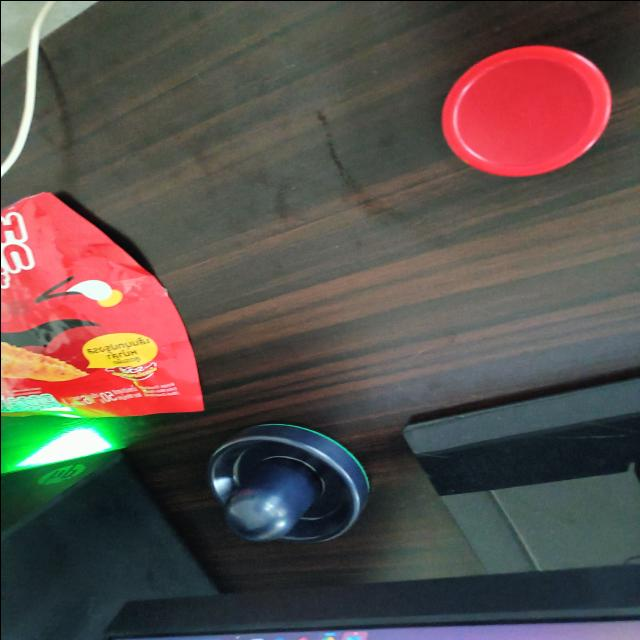chip: (439, 44, 614, 178)
